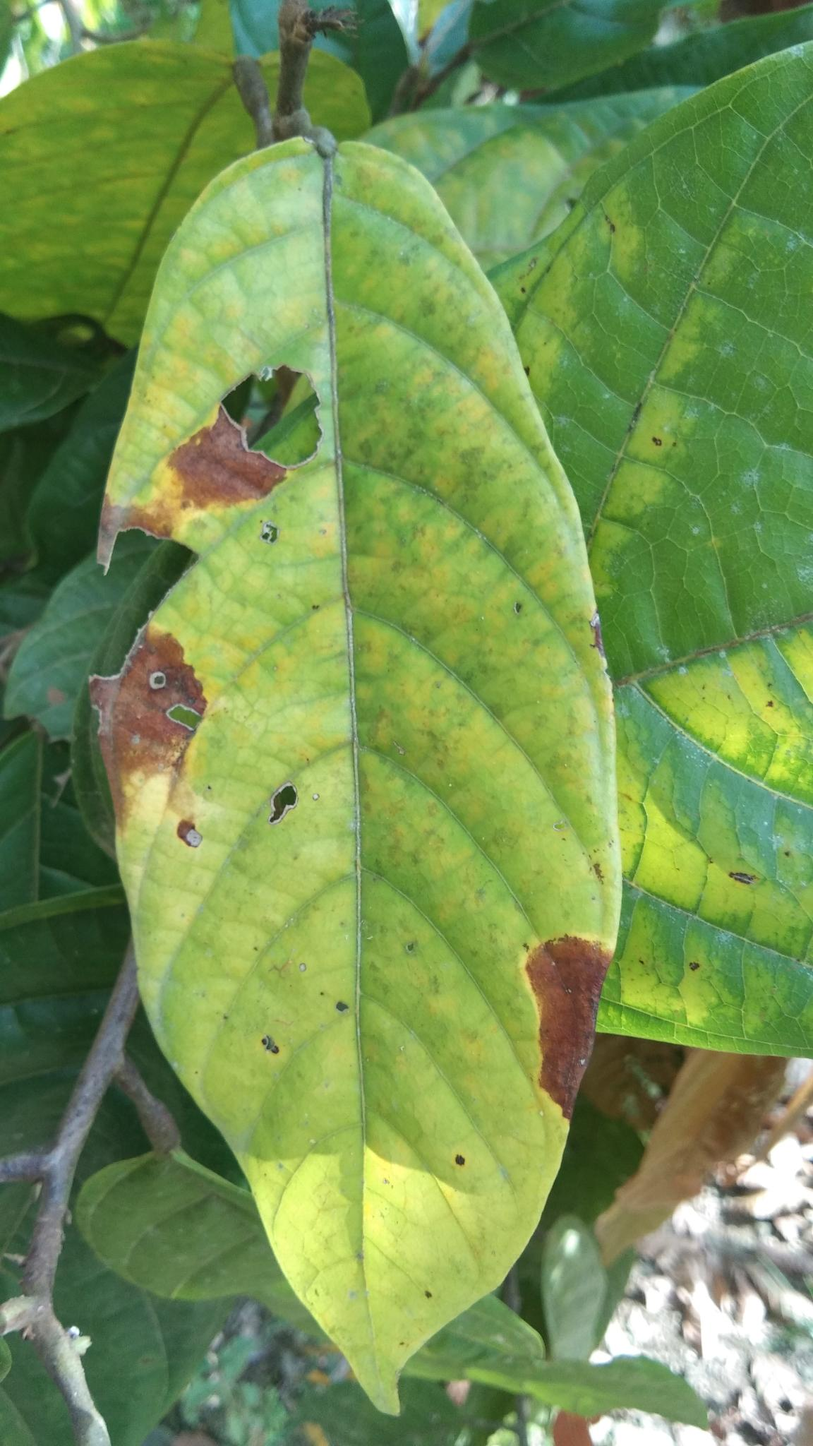Fosforo: (101, 128, 615, 1429)
